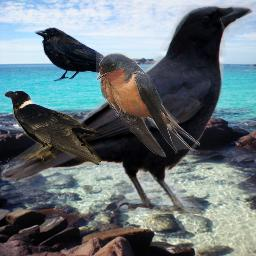Crow: (1, 5, 253, 214), (3, 88, 101, 165), (33, 27, 132, 82)
Swallow: (96, 52, 200, 157)
